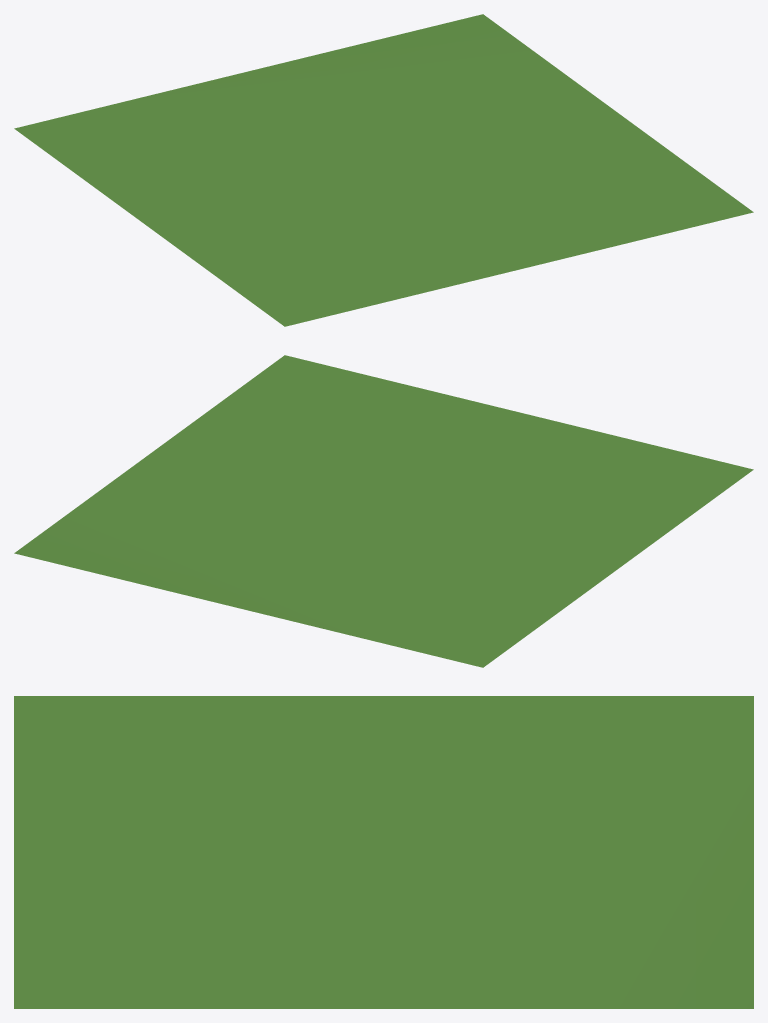
Rendered from terrain_8_2_2.glb.
3 views of the same model, one above another, from view 1: azimuth 30°, elevation 25°; view 2: azimuth 150°, elevation 25°; view 3: azimuth 270°, elevation 25° (orthographic). The views are drawn at different scales.
Parts seen in each view (by area): view 1: m; view 2: m; view 3: m.
Boxes of the visible parts, left/top/right/bottom form: m: left=14, top=14, right=753, bottom=326; m: left=14, top=355, right=753, bottom=667; m: left=14, top=696, right=753, bottom=1008.
Bounding box in the file's own units: 4 × 0 × 4.
